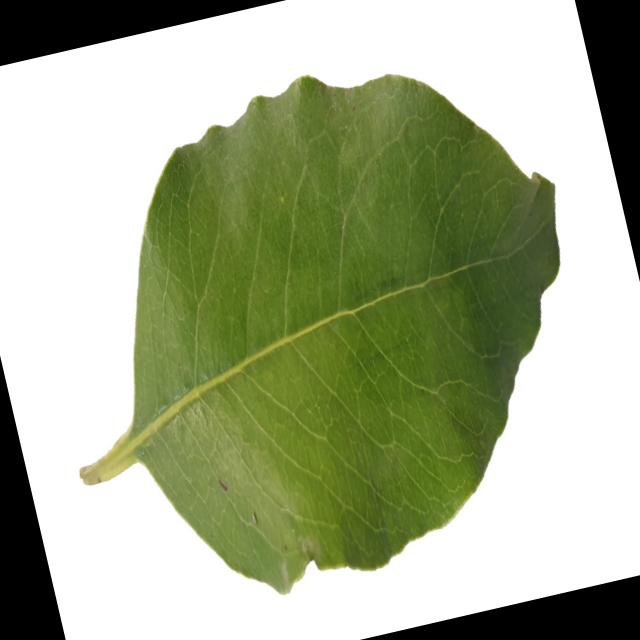Medicinal-Sandalwood: (3, 27, 630, 628)
